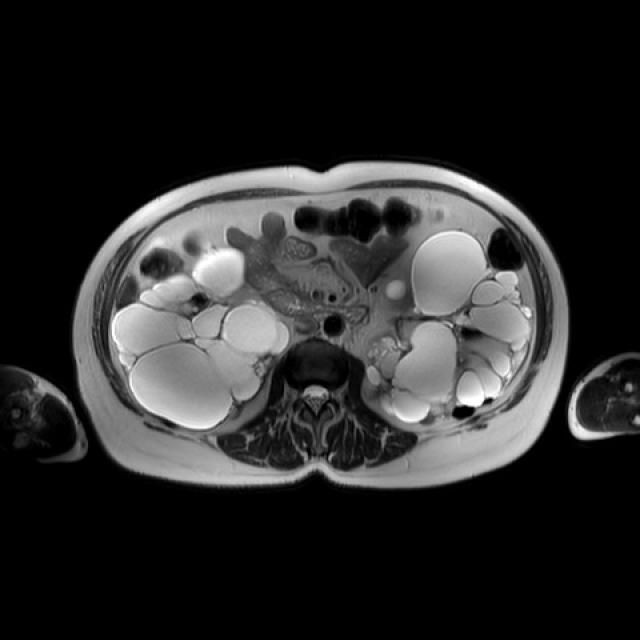sag: (111, 249, 286, 431)
sol: (367, 234, 534, 422)
